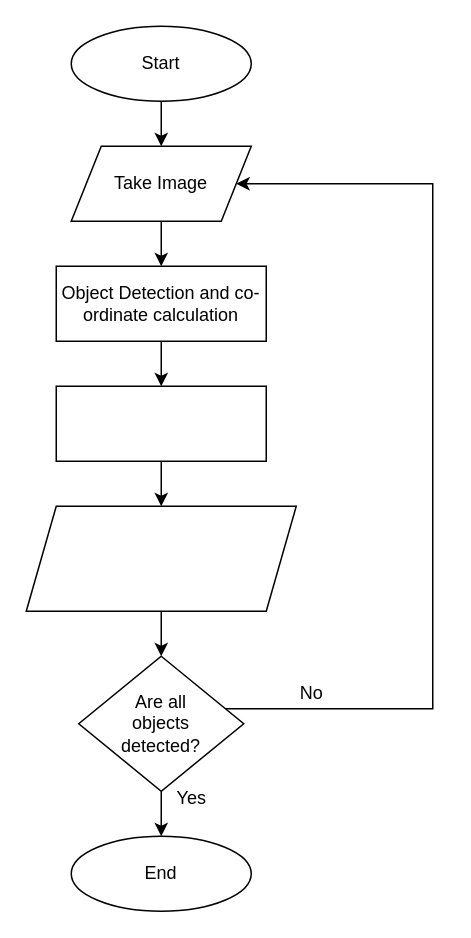
Image size: 471x938. Some labels were removed from this diagram. The centre of each missing label's shape, as x and y in pixels:
Map the co-ordinate to the motor's joint angle: [160,423]
Pick the object and place it in respective place: [160,558]
